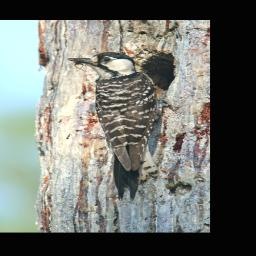Woodpecker: (66, 51, 182, 205)
